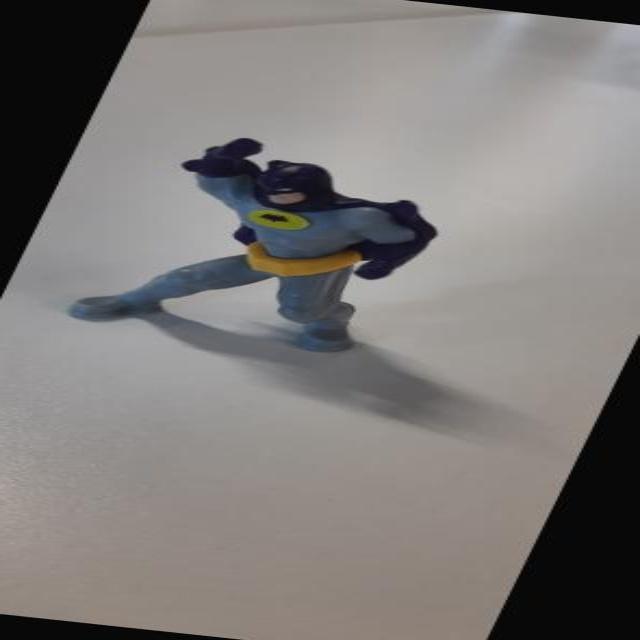Batman: (38, 113, 554, 411)
